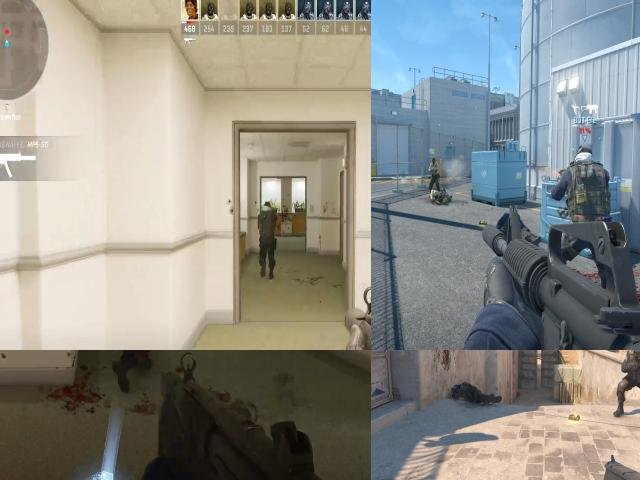Bomb: (566, 411, 584, 424), (477, 216, 491, 228)
CT: (558, 142, 620, 288), (617, 350, 640, 416), (258, 194, 282, 246)
CT-Head: (566, 143, 601, 178), (260, 199, 274, 213), (632, 350, 640, 359)
Dead: (496, 208, 542, 244), (450, 383, 495, 408), (97, 350, 142, 366), (429, 189, 452, 208)
T: (428, 156, 441, 192)
T-Head: (432, 158, 437, 165)
